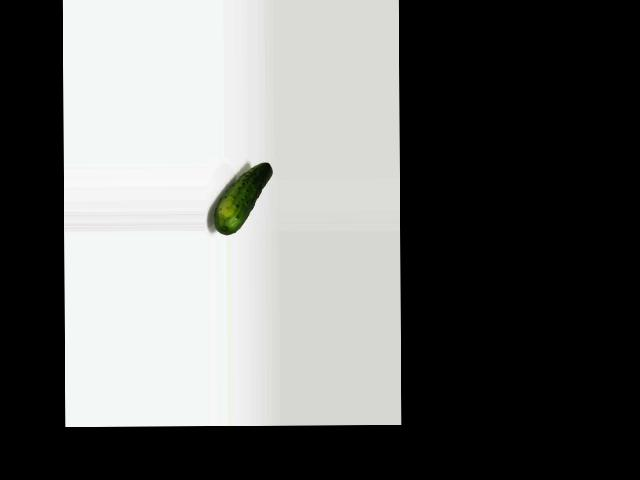cucumber: (214, 162, 272, 234)
